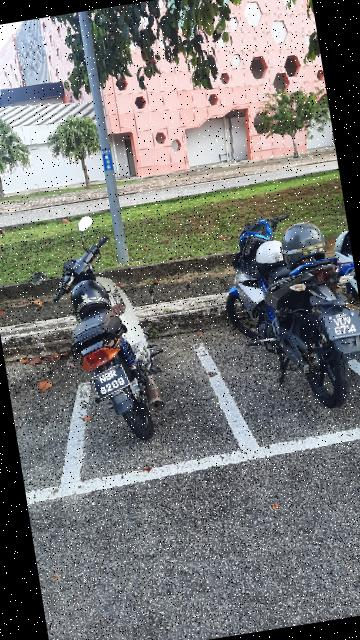License_Plate: (89, 363, 134, 403), (322, 308, 360, 345)
motorcycle: (16, 198, 190, 459), (211, 200, 360, 428)
